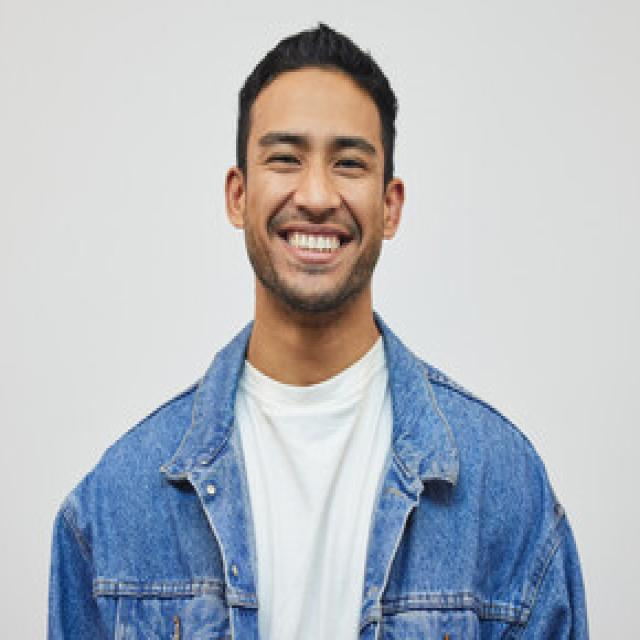Nonhelmet: (217, 7, 422, 326)
